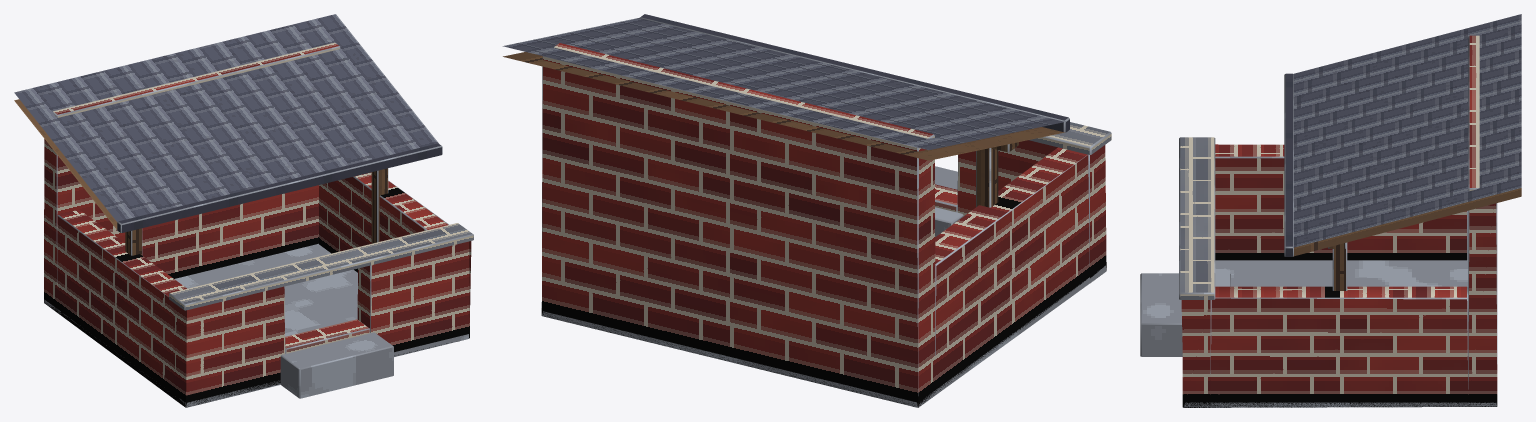
Rendered from cn_pigpen_0.glb.
3 renders of one model, left to right at view 1: azimuth 30°, elevation 25°; view 2: azimuth 150°, elevation 25°; view 3: azimuth 270°, elevation 25°, orthographic. The views are drawn at different scales.
Visible parts, largest first — view 1: cn_pigpen_1; view 2: cn_pigpen_1; view 3: cn_pigpen_1.
Boxes of the visible parts, bbox=[...] form: cn_pigpen_1: bbox=[14, 14, 473, 407]; cn_pigpen_1: bbox=[502, 14, 1111, 407]; cn_pigpen_1: bbox=[1140, 14, 1521, 407].
Bounding box in the file's own units: 3.4 × 2.1 × 3.15.
8 materials, 8 textured.
